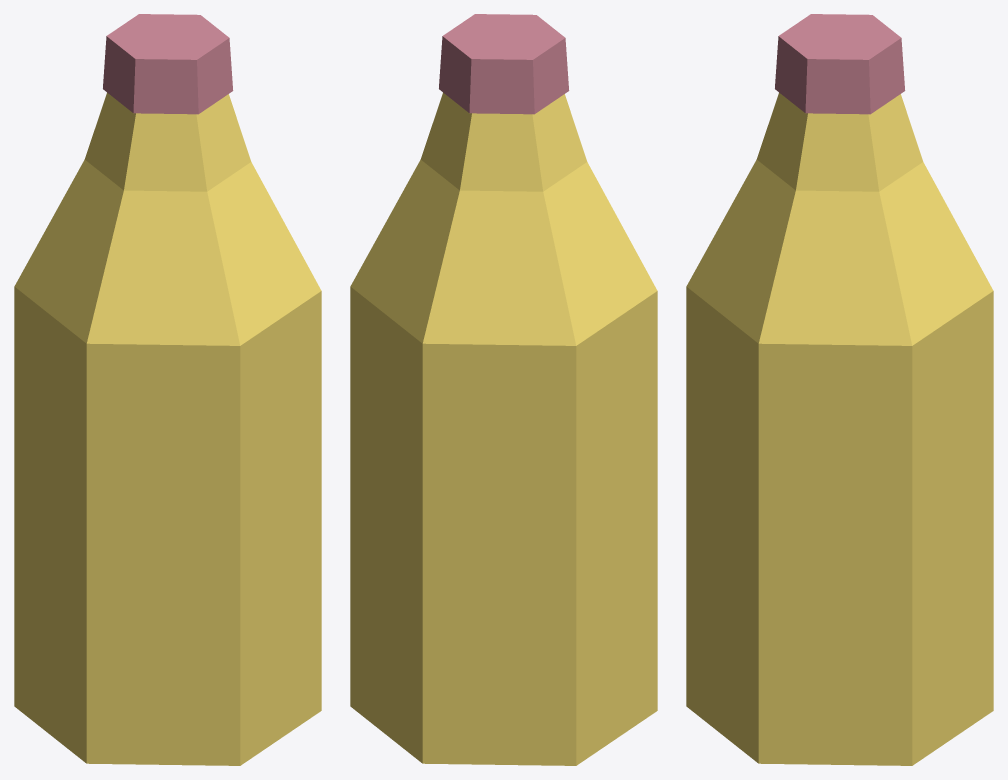
The model's file is Laundry_Bottle3.fbx.
The picture shows the model from 3 angles, left to right: view 1: azimuth 30°, elevation 25°; view 2: azimuth 150°, elevation 25°; view 3: azimuth 270°, elevation 25°; orthographic projection.
Visible parts, largest first — view 1: Laundry_Bottle3; view 2: Laundry_Bottle3; view 3: Laundry_Bottle3.
Part boxes in pixels (x1,y1,x2,y2): Laundry_Bottle3: (14,14,321,765); Laundry_Bottle3: (350,14,657,765); Laundry_Bottle3: (686,14,993,765).
Bounding box in the file's own units: 9.55 × 26.09 × 10.81.
